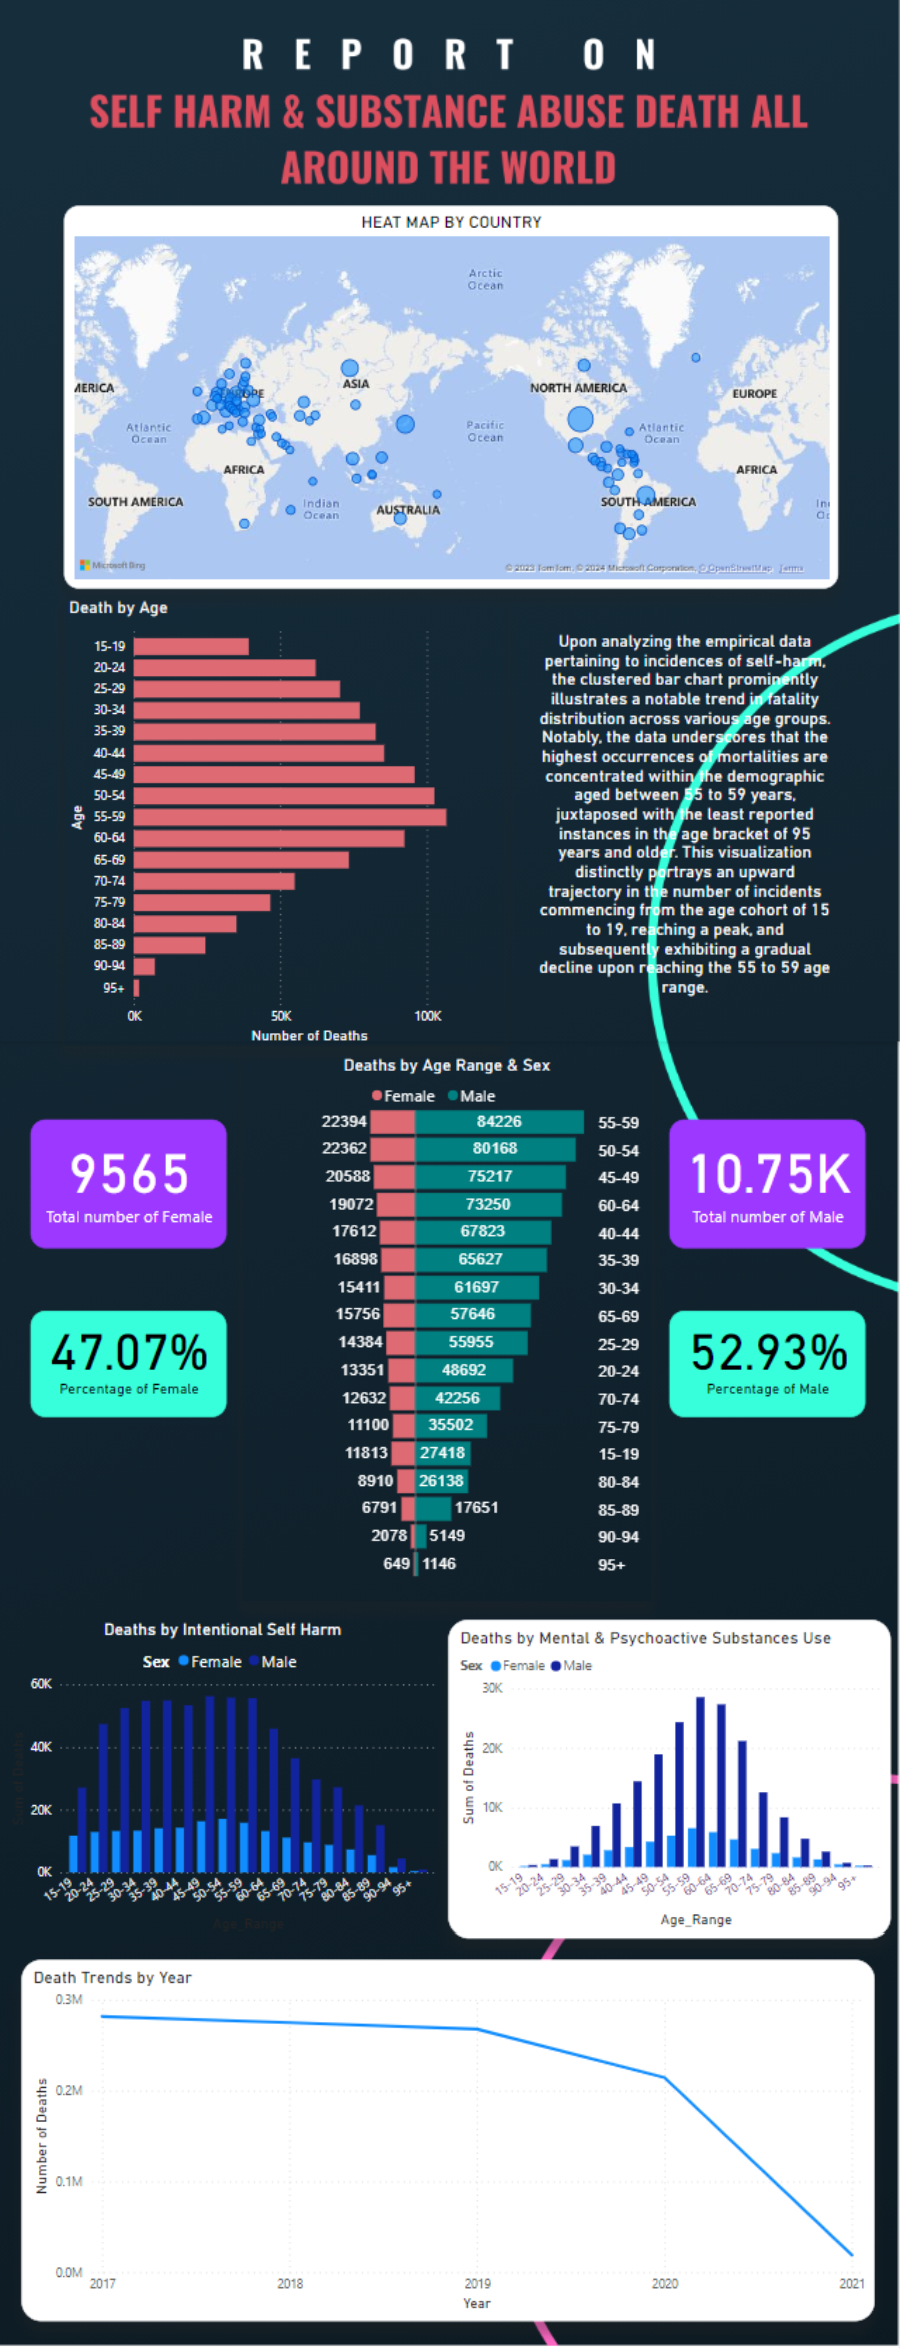

The page's visual inventory and layout, read from the dashboard file:
{"tool":"powerbi","page":{"name":"Page 1","canvas":[900,2350],"ordinal":0},"visuals":[{"type":"clusteredBarChart","title":"Death by Age","fields":{"Category":["Cleaned_Self Harm and Substance Abuse Deaths Worldwide.Age_Range"],"Y":["Sum(Cleaned_Self Harm and Substance Abuse Deaths Worldwide.Deaths)"]},"box":[67.5,596.2,440,450],"z":0},{"type":"TornadoChart1452517688218","title":"Deaths by Age Range & Sex","fields":{"Series":["Cleaned_Self Harm and Substance Abuse Deaths Worldwide.Sex"],"Category":["Cleaned_Self Harm and Substance Abuse Deaths Worldwide.Age_Range"],"Values":["Sum(Cleaned_Self Harm and Substance Abuse Deaths Worldwide.Deaths)"]},"box":[246,1056,408,546],"z":1000},{"type":"map","title":"HEAT MAP BY COUNTRY","fields":{"Size":["Sum(Cleaned_Self Harm and Substance Abuse Deaths Worldwide.Deaths)"],"Category":["countryContinent.country"]},"box":[67.5,205,772.5,382.5],"z":2000},{"type":"clusteredColumnChart","title":"Deaths by Intentional Self Harm","fields":{"Category":["Cleaned_Self Harm and Substance Abuse Deaths Worldwide.Age_Range"],"Series":["Cleaned_Self Harm and Substance Abuse Deaths Worldwide.Sex"],"Y":["Sum(Cleaned_Self Harm and Substance Abuse Deaths Worldwide.Deaths)"]},"box":[6.7,1621.1,436.7,317.8],"z":3000},{"type":"clusteredColumnChart","title":"Deaths by Mental & Psychoactive Substances Use","fields":{"Category":["Cleaned_Self Harm and Substance Abuse Deaths Worldwide.Age_Range"],"Series":["Cleaned_Self Harm and Substance Abuse Deaths Worldwide.Sex"],"Y":["Sum(Cleaned_Self Harm and Substance Abuse Deaths Worldwide.Deaths)"]},"box":[451.1,1621.1,442.2,317.8],"z":4000},{"type":"card","fields":{"Values":["CountNonNull(Cleaned_Self Harm and Substance Abuse Deaths Worldwide.Sex)"]},"box":[672.5,1121.2,196.2,128.8],"z":5000},{"type":"textbox","box":[533.8,625,306.2,375],"z":6000},{"type":"lineChart","title":"Death Trends by Year","fields":{"Category":["Cleaned_Self Harm and Substance Abuse Deaths Worldwide.Year"],"Y":["Sum(Cleaned_Self Harm and Substance Abuse Deaths Worldwide.Deaths)"]},"box":[22.2,1960,854.4,362.2],"z":7000},{"type":"card","fields":{"Values":["CountNonNull(Cleaned_Self Harm and Substance Abuse Deaths Worldwide.Sex)"]},"box":[33.8,1121.2,196.2,128.8],"z":8000},{"type":"textbox","box":[672.5,1312.5,196.2,106.2],"z":9000},{"type":"textbox","box":[33.8,1312.5,196.2,106.2],"z":10000}]}

Visuals, with their boxes in screenshot pixels (x1, y1, x2, y2), scaled from the page's 900x2350 canvas onto the 900x2350 screenshot:
"Death by Age" clusteredBarChart: select_region(68, 596, 508, 1046)
"Deaths by Age Range & Sex" TornadoChart1452517688218: select_region(246, 1056, 654, 1602)
"HEAT MAP BY COUNTRY" map: select_region(68, 205, 840, 588)
"Deaths by Intentional Self Harm" clusteredColumnChart: select_region(7, 1621, 443, 1939)
"Deaths by Mental & Psychoactive Substances Use" clusteredColumnChart: select_region(451, 1621, 893, 1939)
card - CountNonNull(Cleaned_Self Harm and Substance Abuse Deaths Worldwide.Sex): select_region(672, 1121, 869, 1250)
textbox: select_region(534, 625, 840, 1000)
"Death Trends by Year" lineChart: select_region(22, 1960, 877, 2322)
card - CountNonNull(Cleaned_Self Harm and Substance Abuse Deaths Worldwide.Sex): select_region(34, 1121, 230, 1250)
textbox: select_region(672, 1312, 869, 1419)
textbox: select_region(34, 1312, 230, 1419)
